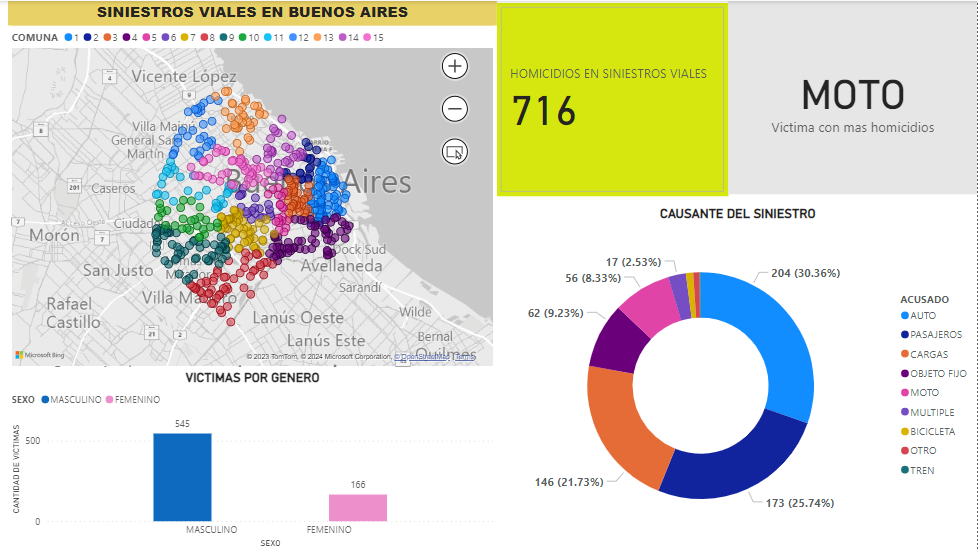

Layout of this report page (visuals, bound fields, positions):
{"tool":"powerbi","page":{"name":"PORTADA","canvas":[1280,720],"ordinal":0},"visuals":[{"type":"map","title":"SINIESTROS VIALES EN BUENOS AIRES","fields":{"X":["HECHOS.pos x"],"Y":["HECHOS.pos y"],"Series":["HECHOS.COMUNA"]},"box":[10,0,640,482.9],"z":0},{"type":"cardVisual","fields":{"Data":["Sum(HECHOS.N_VICTIMAS)"]},"box":[650,3,302.9,252.9],"z":1000},{"type":"donutChart","title":"CAUSANTE DEL SINIESTRO ","fields":{"Category":["HECHOS.ACUSADO"],"Y":["CountNonNull(HECHOS.ACUSADO)"]},"box":[650,268.6,630,451.4],"z":2000},{"type":"clusteredColumnChart","title":"VICTIMAS POR GENERO ","fields":{"Category":["HOMICIDIOS VICTIMAS.SEXO"],"Y":["CountNonNull(HOMICIDIOS VICTIMAS.SEXO)"],"Series":["HOMICIDIOS VICTIMAS.SEXO"]},"box":[10,483,640,237],"z":3000},{"type":"card","fields":{"Values":["HOMICIDIOS VICTIMAS.Victima_Mas_Repetida"]},"box":[953,0,327,253],"z":4000}]}

Visuals, with their boxes in screenshot pixels (x1, y1, x2, y2), scaled from the page's 1280x720 canvas onto the 978x551 screenshot:
"SINIESTROS VIALES EN BUENOS AIRES" map: [left=8, top=0, right=497, bottom=370]
cardVisual - Sum(HECHOS.N_VICTIMAS): [left=497, top=2, right=728, bottom=196]
"CAUSANTE DEL SINIESTRO " donutChart: [left=497, top=206, right=977, bottom=550]
"VICTIMAS POR GENERO " clusteredColumnChart: [left=8, top=370, right=497, bottom=550]
card - HOMICIDIOS VICTIMAS.Victima_Mas_Repetida: [left=728, top=0, right=977, bottom=194]
